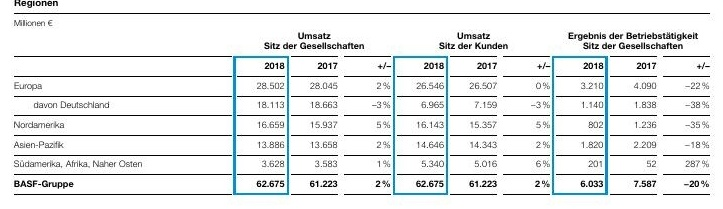table: (0, 0, 723, 209)
